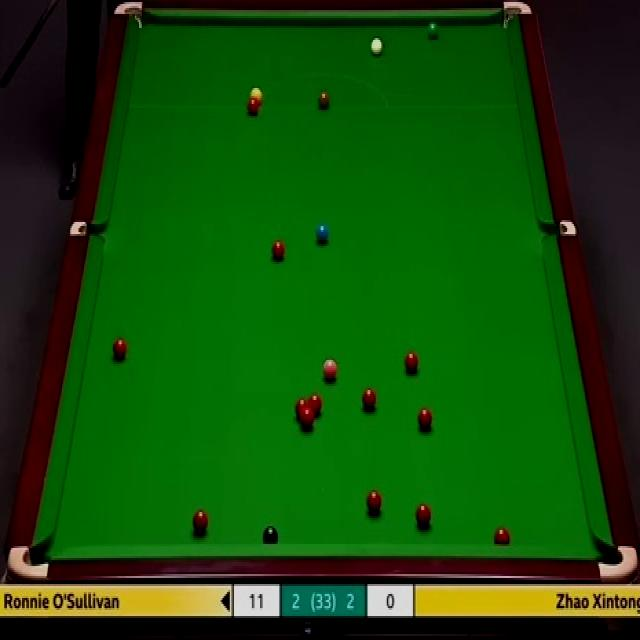black-ball: (262, 523, 280, 545)
blue-ball: (315, 222, 329, 245)
brown-ball: (316, 88, 330, 111)
green-ball: (425, 21, 440, 40)
pink-ball: (323, 354, 338, 382)
red-ball: (403, 349, 420, 378), (111, 336, 128, 363), (414, 503, 431, 529), (366, 489, 382, 515), (417, 405, 432, 430), (361, 387, 376, 412), (194, 508, 208, 534), (271, 239, 286, 262), (308, 394, 322, 418), (494, 526, 510, 546), (301, 410, 314, 430), (295, 398, 308, 418), (248, 98, 260, 119)
white-ball: (370, 35, 384, 58)
yellow-ball: (250, 87, 262, 107)
